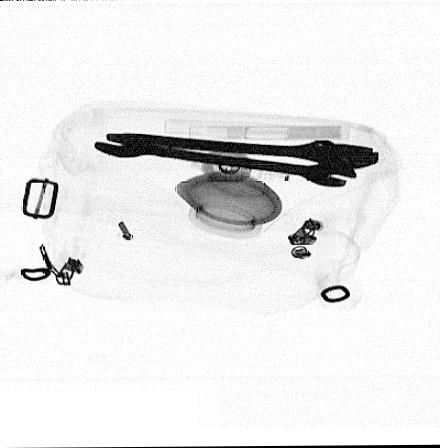Wrench: (95, 140, 356, 190), (106, 133, 383, 168)
